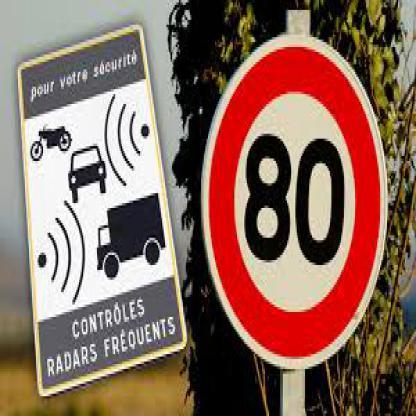Speed Limit 80: (207, 41, 382, 362)
